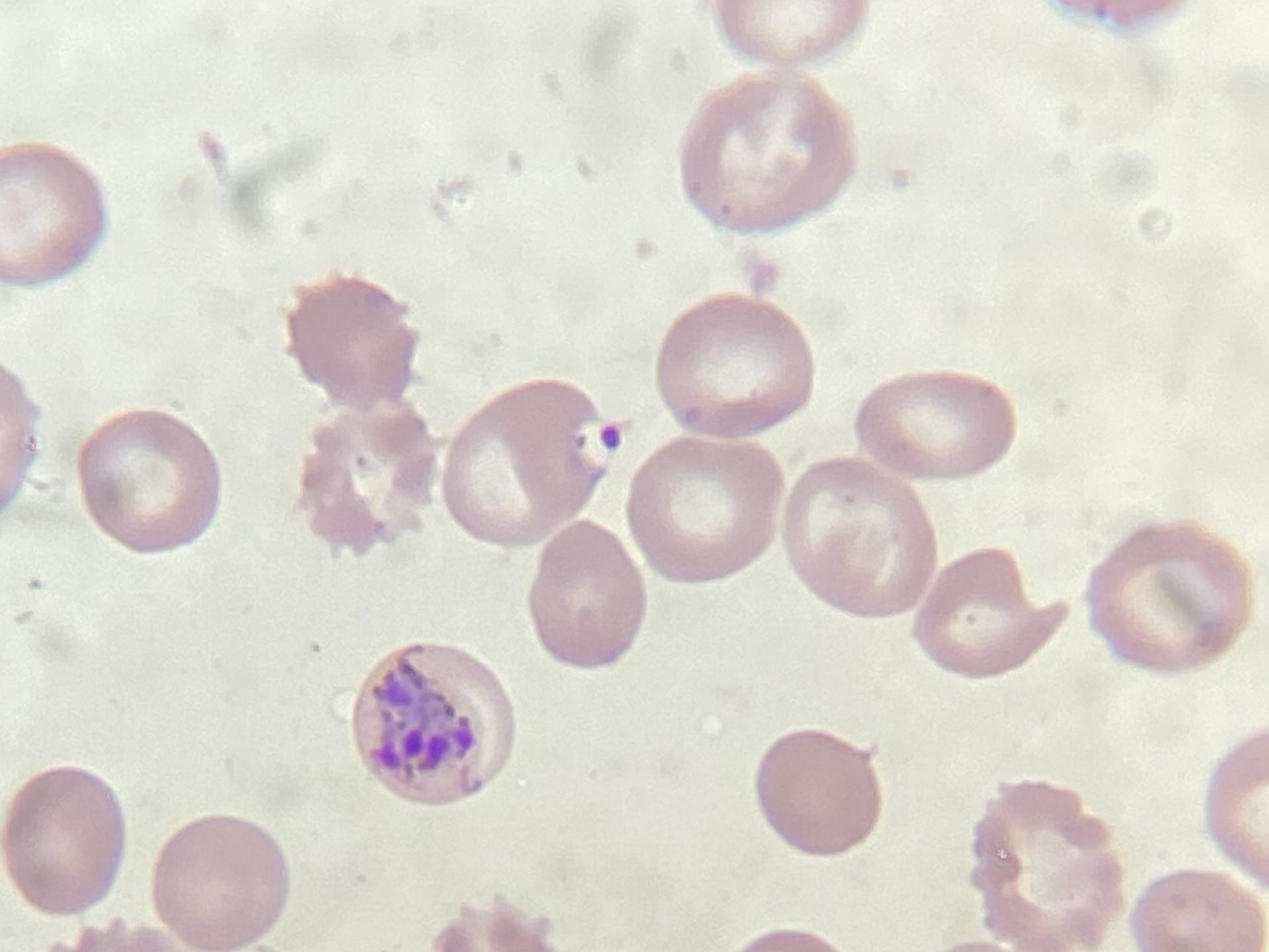Infected: (654, 407, 828, 571), (754, 147, 915, 307)
Uninfected: (414, 718, 588, 879), (145, 1, 299, 174), (17, 277, 183, 426), (332, 335, 487, 493), (455, 512, 613, 656), (830, 393, 974, 550), (484, 371, 640, 515), (1047, 398, 1193, 539), (200, 272, 354, 403), (980, 3, 1117, 137), (1143, 35, 1266, 184), (846, 543, 983, 675), (252, 471, 413, 582), (623, 283, 743, 430), (385, 94, 513, 223), (1162, 668, 1268, 806)
